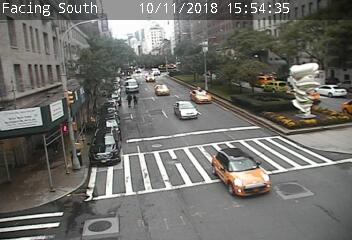car: (212, 148, 271, 197), (89, 127, 119, 166), (173, 101, 197, 120), (189, 89, 212, 103), (125, 79, 138, 92), (154, 84, 169, 95), (144, 73, 155, 82)
